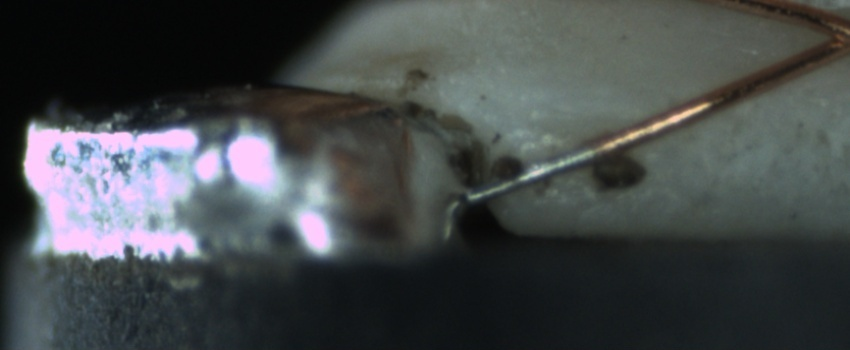CL: (799, 7, 850, 63)
TS: (460, 144, 593, 208)
